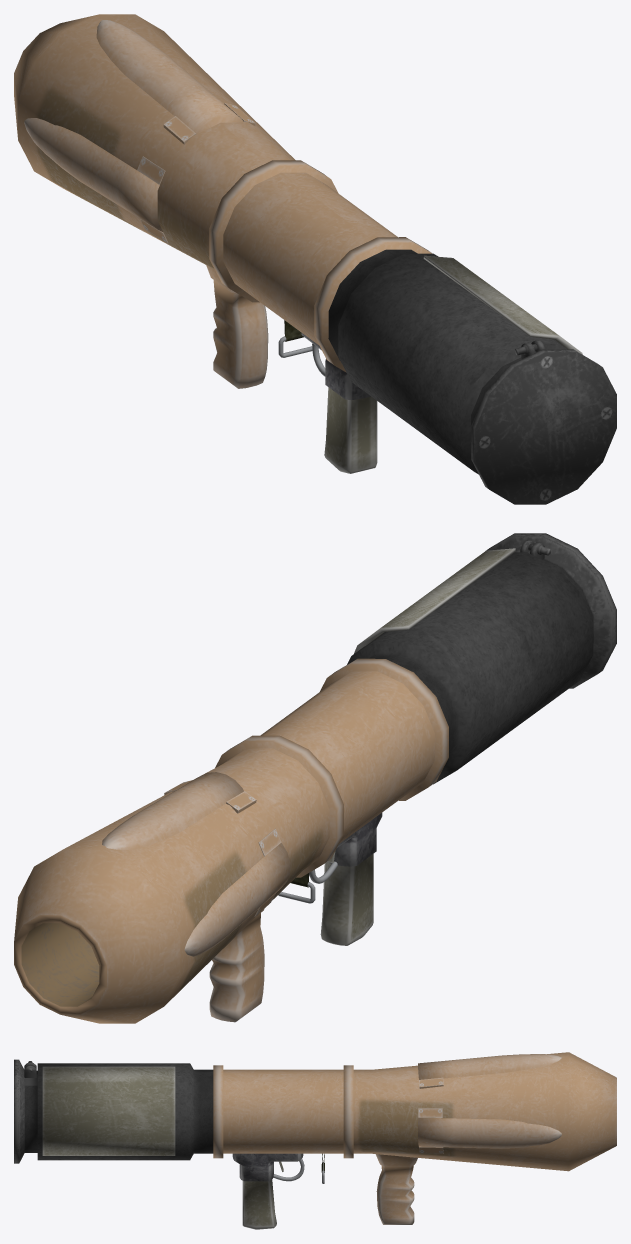
Rendered from RocketLauncher.glb.
3 views of the same model, one above another, from view 1: azimuth 30°, elevation 25°; view 2: azimuth 150°, elevation 25°; view 3: azimuth 270°, elevation 25° (orthographic). The views are drawn at different scales.
Parts seen in each view (by area): view 1: Weapon_RL; view 2: Weapon_RL; view 3: Weapon_RL.
Boxes of the visible parts, box(x1,y1,x2,y2) form: Weapon_RL: box(14, 14, 616, 504); Weapon_RL: box(14, 533, 616, 1023); Weapon_RL: box(14, 1052, 616, 1229).
Bounding box in the file's own units: 0.714 × 1.11 × 3.6.
Materials: 1 (1 with a texture image).
